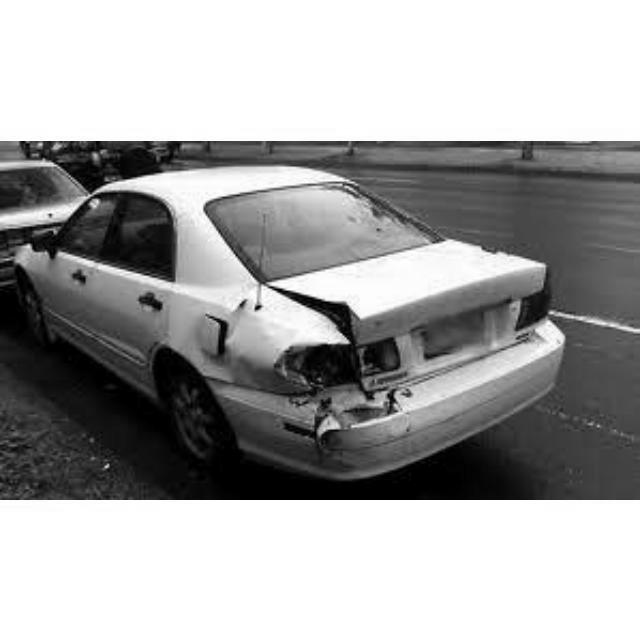quaterpanel-dent: (176, 293, 355, 468)
